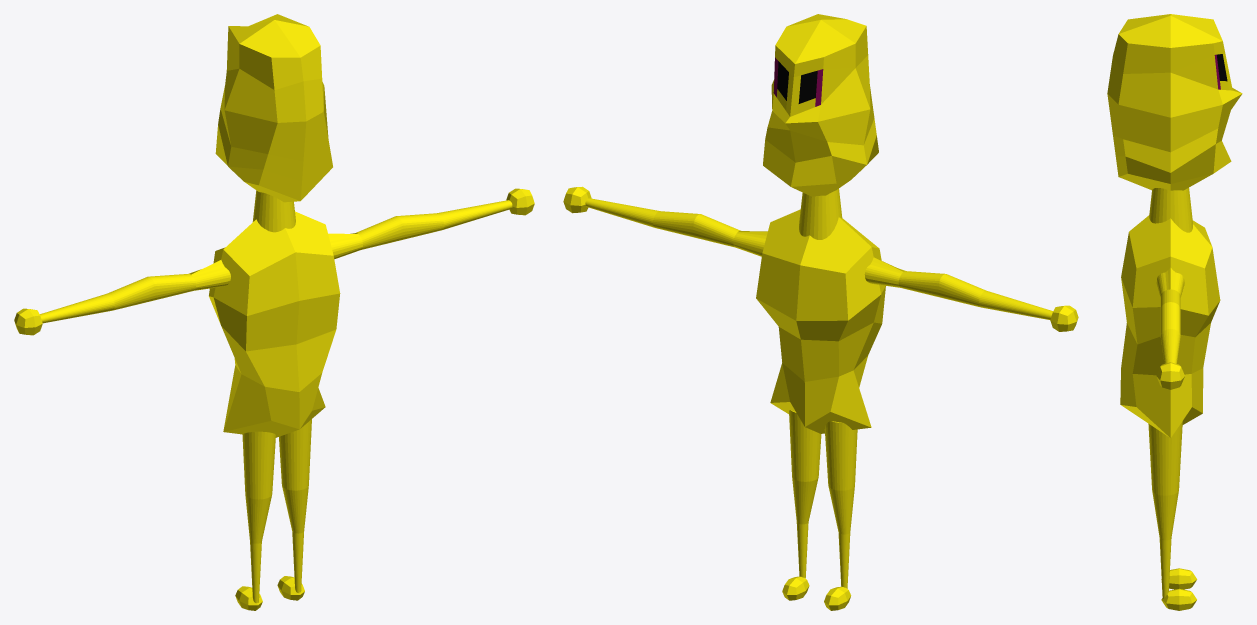
File: npcPlaneta6.fbx
The picture shows the model from 3 angles, left to right: view 1: azimuth 30°, elevation 25°; view 2: azimuth 150°, elevation 25°; view 3: azimuth 270°, elevation 25°; orthographic projection.
Parts seen in each view (by area): view 1: NPC; view 2: NPC; view 3: NPC.
Boxes of the visible parts, box(x1,y1,x2,y2) form: NPC: box(14, 14, 534, 610); NPC: box(563, 14, 1078, 610); NPC: box(1107, 14, 1242, 610).
Bounding box in the file's own units: 694 × 753 × 158.
